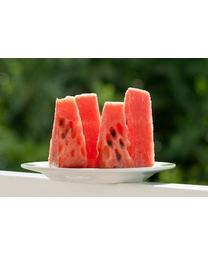watermelon: (51, 87, 154, 167)
